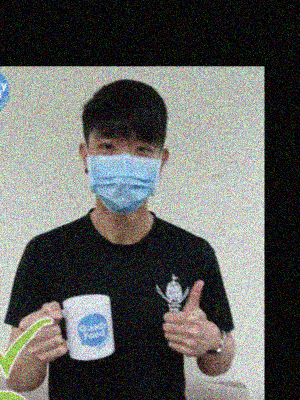with_mask: (86, 134, 159, 218)
